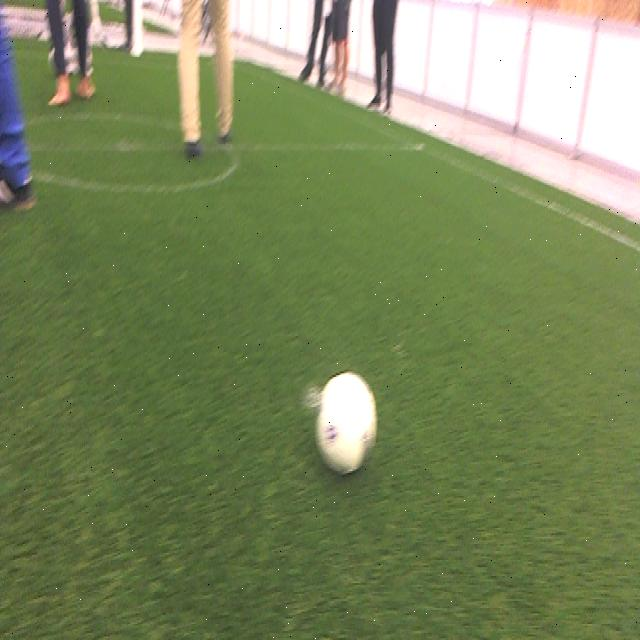ball: (315, 373, 376, 473)
goalpost: (130, 2, 143, 55)
